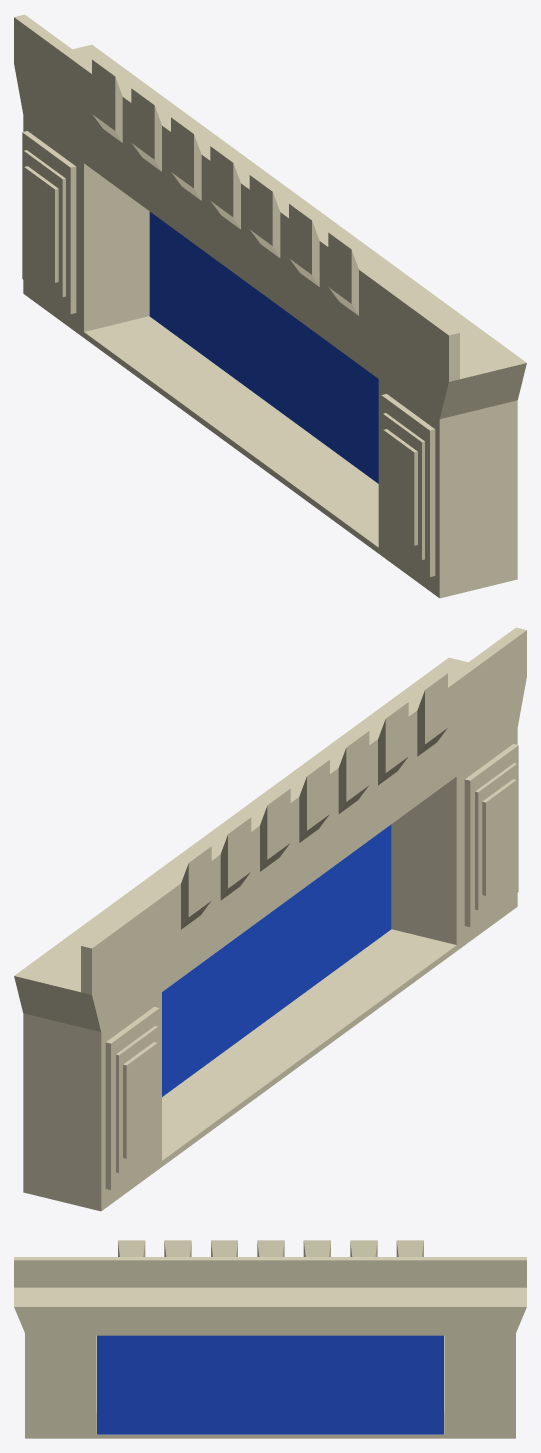
Rendered from testwall.fbx.
The picture shows the model from 3 angles, top to bottom: view 1: azimuth 30°, elevation 25°; view 2: azimuth 150°, elevation 25°; view 3: azimuth 270°, elevation 25°; orthographic projection. The views are drawn at different scales.
Parts seen in each view (by area): view 1: Cube.001; view 2: Cube.001; view 3: Cube.001.
Boxes of the visible parts, bbox=[...] form: Cube.001: bbox=[14, 14, 526, 598]; Cube.001: bbox=[14, 627, 526, 1211]; Cube.001: bbox=[14, 1240, 526, 1438].
Size of the model in its own units: 569 by 1770 by 4753.
